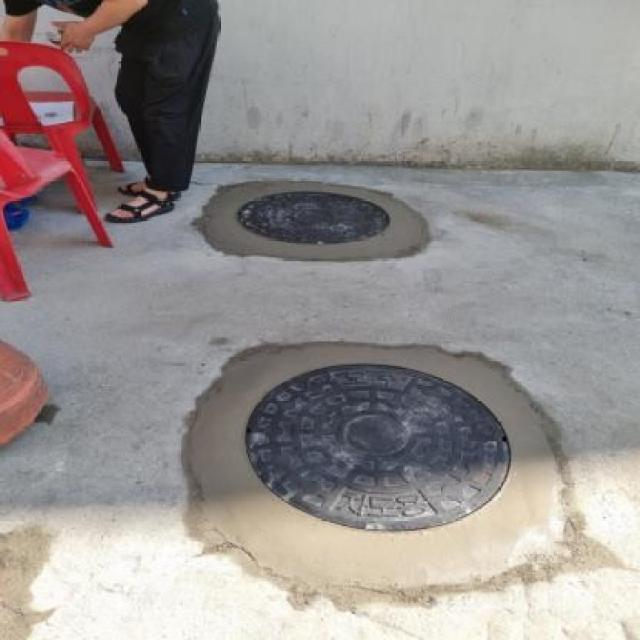Sewer Cover: (250, 360, 530, 551)
